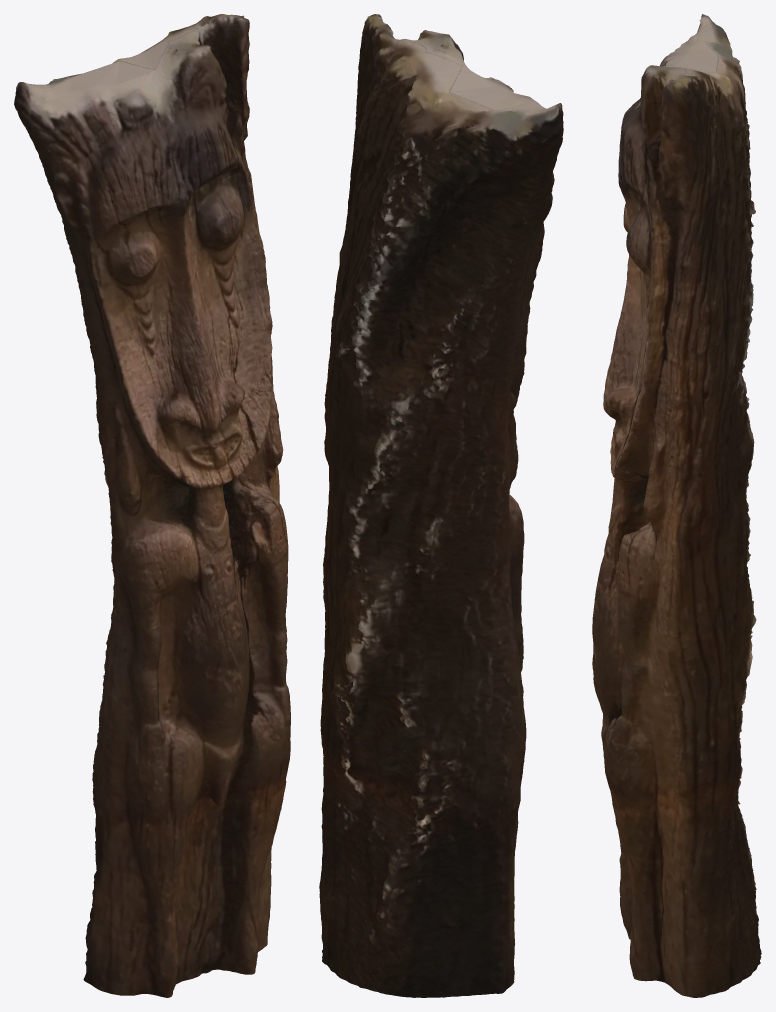
Rendered from preview.glb.
The picture shows the model from 3 angles, left to right: view 1: azimuth 30°, elevation 25°; view 2: azimuth 150°, elevation 25°; view 3: azimuth 270°, elevation 25°; orthographic projection. The views are drawn at different scales.
Visible parts, largest first — view 1: Object_2; view 2: Object_2; view 3: Object_2.
Part boxes in pixels (bbox=[...]): Object_2: bbox=[14, 14, 290, 997]; Object_2: bbox=[319, 14, 563, 997]; Object_2: bbox=[592, 14, 761, 997].
Bounding box in the file's own units: 6.45 × 23.36 × 3.98.
1 material, 1 textured.
